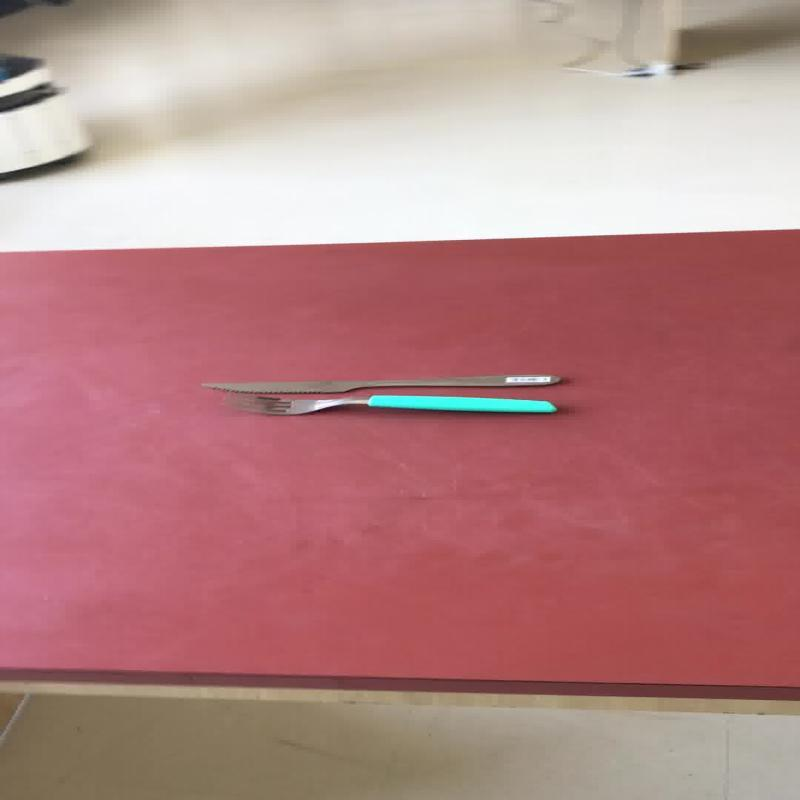fork: (221, 393, 557, 415)
knife: (198, 373, 562, 394)
